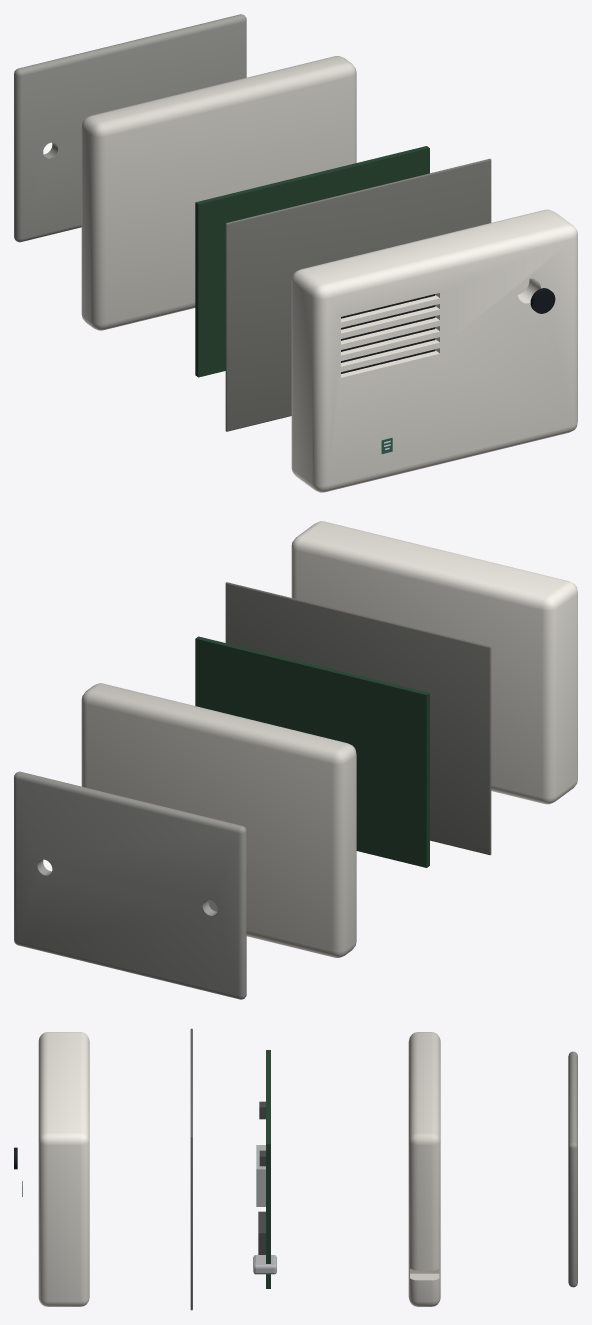
The model's file is capteur-exterieur-ombrair-eclate.glb.
3 views of the same model, one above another, from view 1: azimuth 30°, elevation 25°; view 2: azimuth 150°, elevation 25°; view 3: azimuth 270°, elevation 25° (orthographic). The views are drawn at different scales.
Visible parts, largest first — view 1: sensor_outer_top_shell, sensor_outer_bottom_shell, sensor_outer_seam, sensor_outer_mount_plate, sensor_outer_pcb, sensor_outer_grille_cavity; view 2: sensor_outer_bottom_shell, sensor_outer_mount_plate, sensor_outer_top_shell, sensor_outer_seam, sensor_outer_pcb; view 3: sensor_outer_top_shell, sensor_outer_bottom_shell, sensor_outer_mount_plate, sensor_outer_pcb, sensor_outer_seam, sensor_outer_esp32, sensor_outer_usb.
Part boxes in pixels (box(x1,y1,x2,y2)): sensor_outer_top_shell: box(291, 209, 577, 492); sensor_outer_bottom_shell: box(81, 56, 356, 330); sensor_outer_seam: box(225, 158, 491, 431); sensor_outer_mount_plate: box(14, 14, 246, 242); sensor_outer_pcb: box(195, 146, 429, 377); sensor_outer_grille_cavity: box(341, 294, 435, 373); sensor_outer_bottom_shell: box(81, 683, 356, 957); sensor_outer_mount_plate: box(14, 771, 246, 999); sensor_outer_top_shell: box(291, 521, 577, 804); sensor_outer_seam: box(225, 582, 491, 855); sensor_outer_pcb: box(195, 636, 429, 867); sensor_outer_top_shell: box(38, 1032, 89, 1306); sensor_outer_bottom_shell: box(408, 1032, 440, 1306); sensor_outer_mount_plate: box(568, 1051, 577, 1287); sensor_outer_pcb: box(266, 1050, 270, 1288); sensor_outer_seam: box(190, 1028, 192, 1310); sensor_outer_esp32: box(256, 1145, 265, 1206); sensor_outer_usb: box(253, 1255, 276, 1274).
Bounding box in the file's own units: 0.0803 × 0.0603 × 0.1767.
